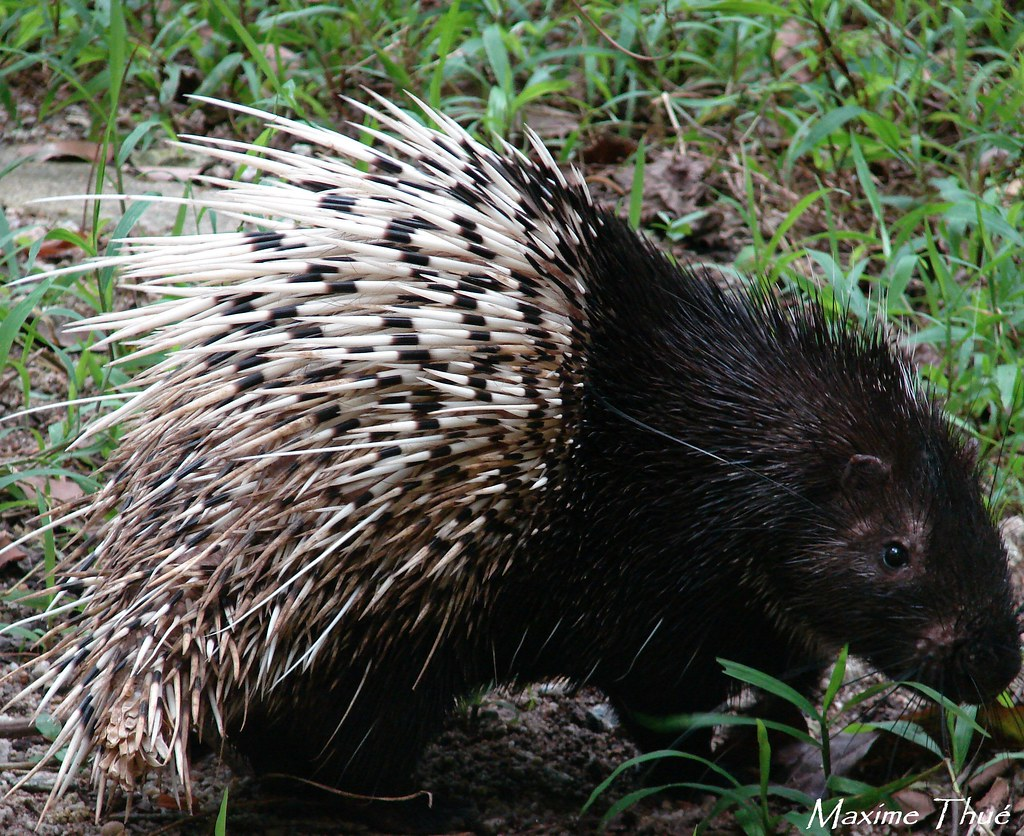porcupine: (20, 66, 1024, 781)
